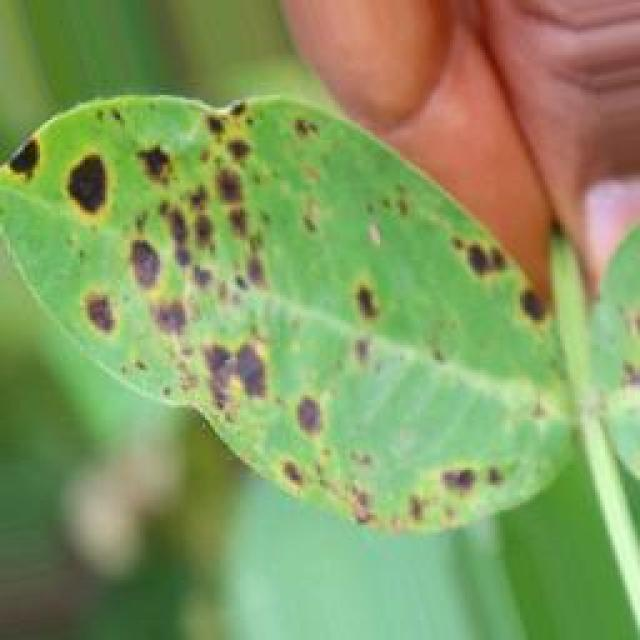Yellowish: (0, 32, 627, 592)
